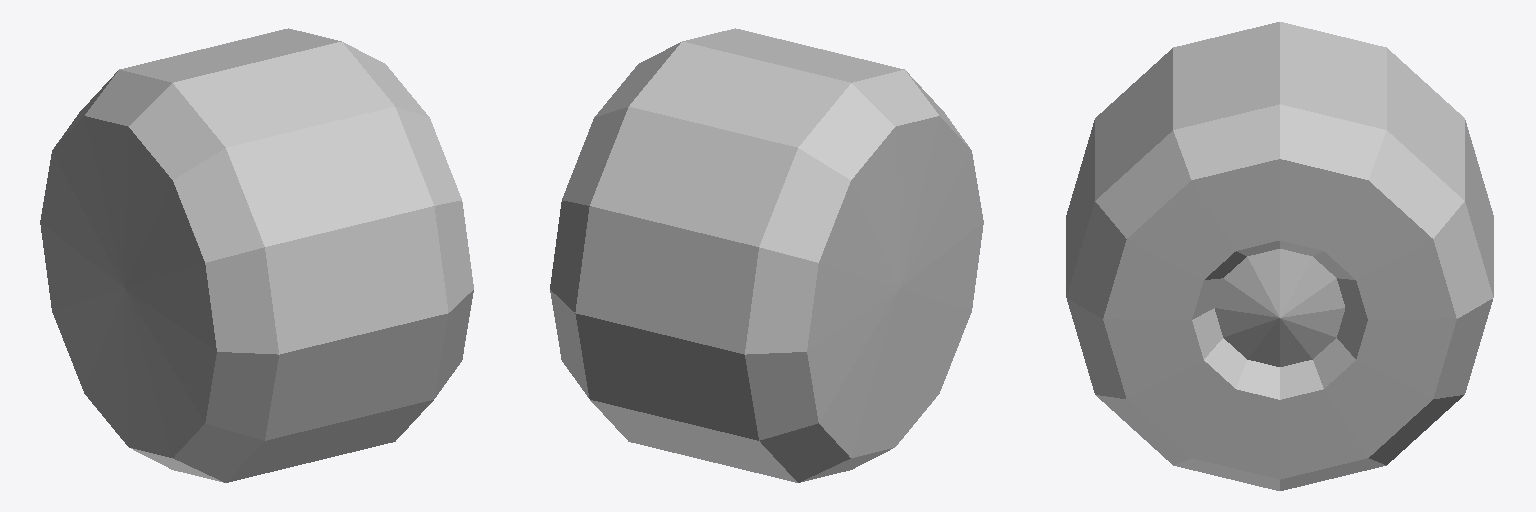
The model's file is spacetruck_large_wheel_rear_left.obj.
The picture shows the model from 3 angles: view 1: azimuth 30°, elevation 25°; view 2: azimuth 150°, elevation 25°; view 3: azimuth 270°, elevation 25°; orthographic projection.
Visible parts, largest first — view 1: spacetruck_large_wheel_rear_left_Cylinder.2692; view 2: spacetruck_large_wheel_rear_left_Cylinder.2692; view 3: spacetruck_large_wheel_rear_left_Cylinder.2692.
Part boxes in pixels (bbox=[...]): spacetruck_large_wheel_rear_left_Cylinder.2692: bbox=[40, 28, 473, 482]; spacetruck_large_wheel_rear_left_Cylinder.2692: bbox=[550, 28, 983, 482]; spacetruck_large_wheel_rear_left_Cylinder.2692: bbox=[1066, 22, 1493, 490].
Size of the model in its own units: 0.162 by 0.228 by 0.228.